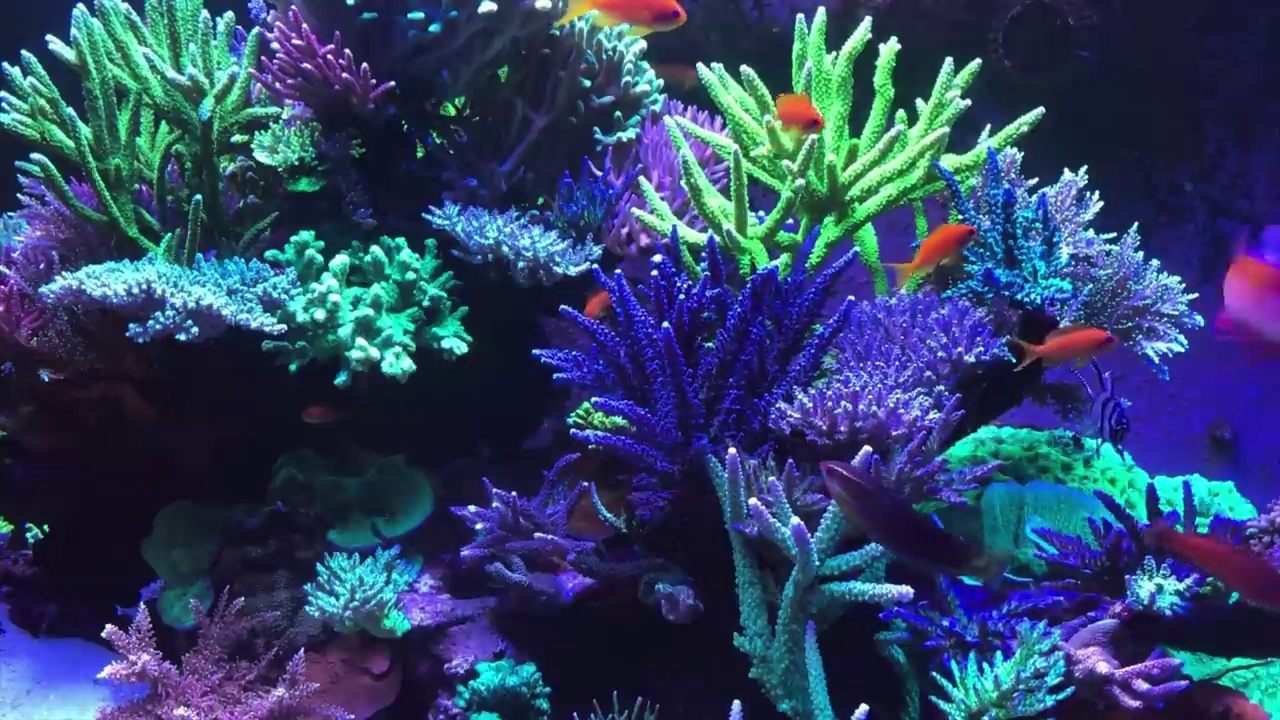fish: (821, 463, 1002, 586), (1145, 519, 1280, 614), (1216, 222, 1280, 365), (885, 222, 982, 300), (1013, 322, 1121, 372), (555, 1, 690, 35), (763, 90, 826, 140), (580, 286, 616, 322), (298, 404, 351, 425)
